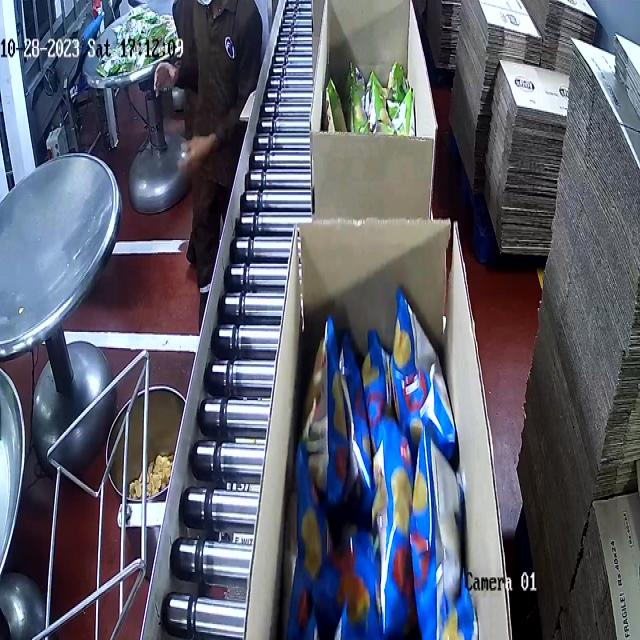PAPRIKA: (291, 278, 470, 640)
